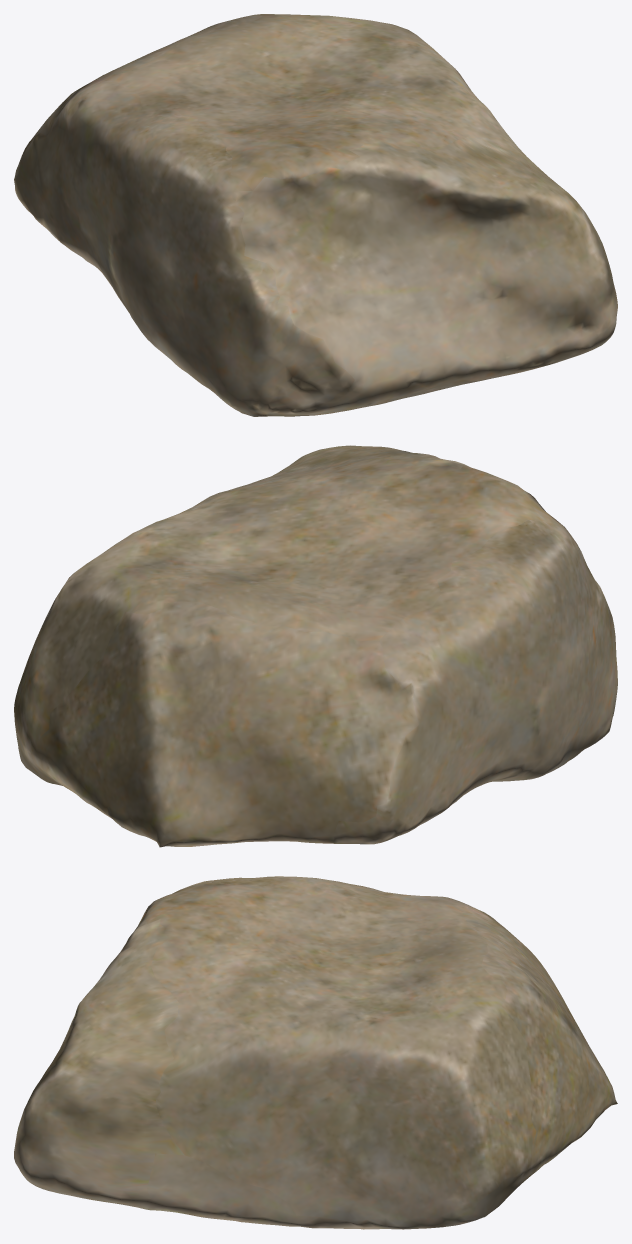
Rendered from SM_Rock_C.fbx.
3 views of the same model, one above another, from view 1: azimuth 30°, elevation 25°; view 2: azimuth 150°, elevation 25°; view 3: azimuth 270°, elevation 25° (orthographic). The views are drawn at different scales.
Parts seen in each view (by area): view 1: SM_Rock_C_LOD0; view 2: SM_Rock_C_LOD0; view 3: SM_Rock_C_LOD0.
Boxes of the visible parts, <box> form: SM_Rock_C_LOD0: <box>14,14,617,416</box>; SM_Rock_C_LOD0: <box>14,445,617,847</box>; SM_Rock_C_LOD0: <box>14,876,617,1229</box>.
Bounding box in the file's own units: 118 × 165 × 70.11.
1 material, 1 textured.
